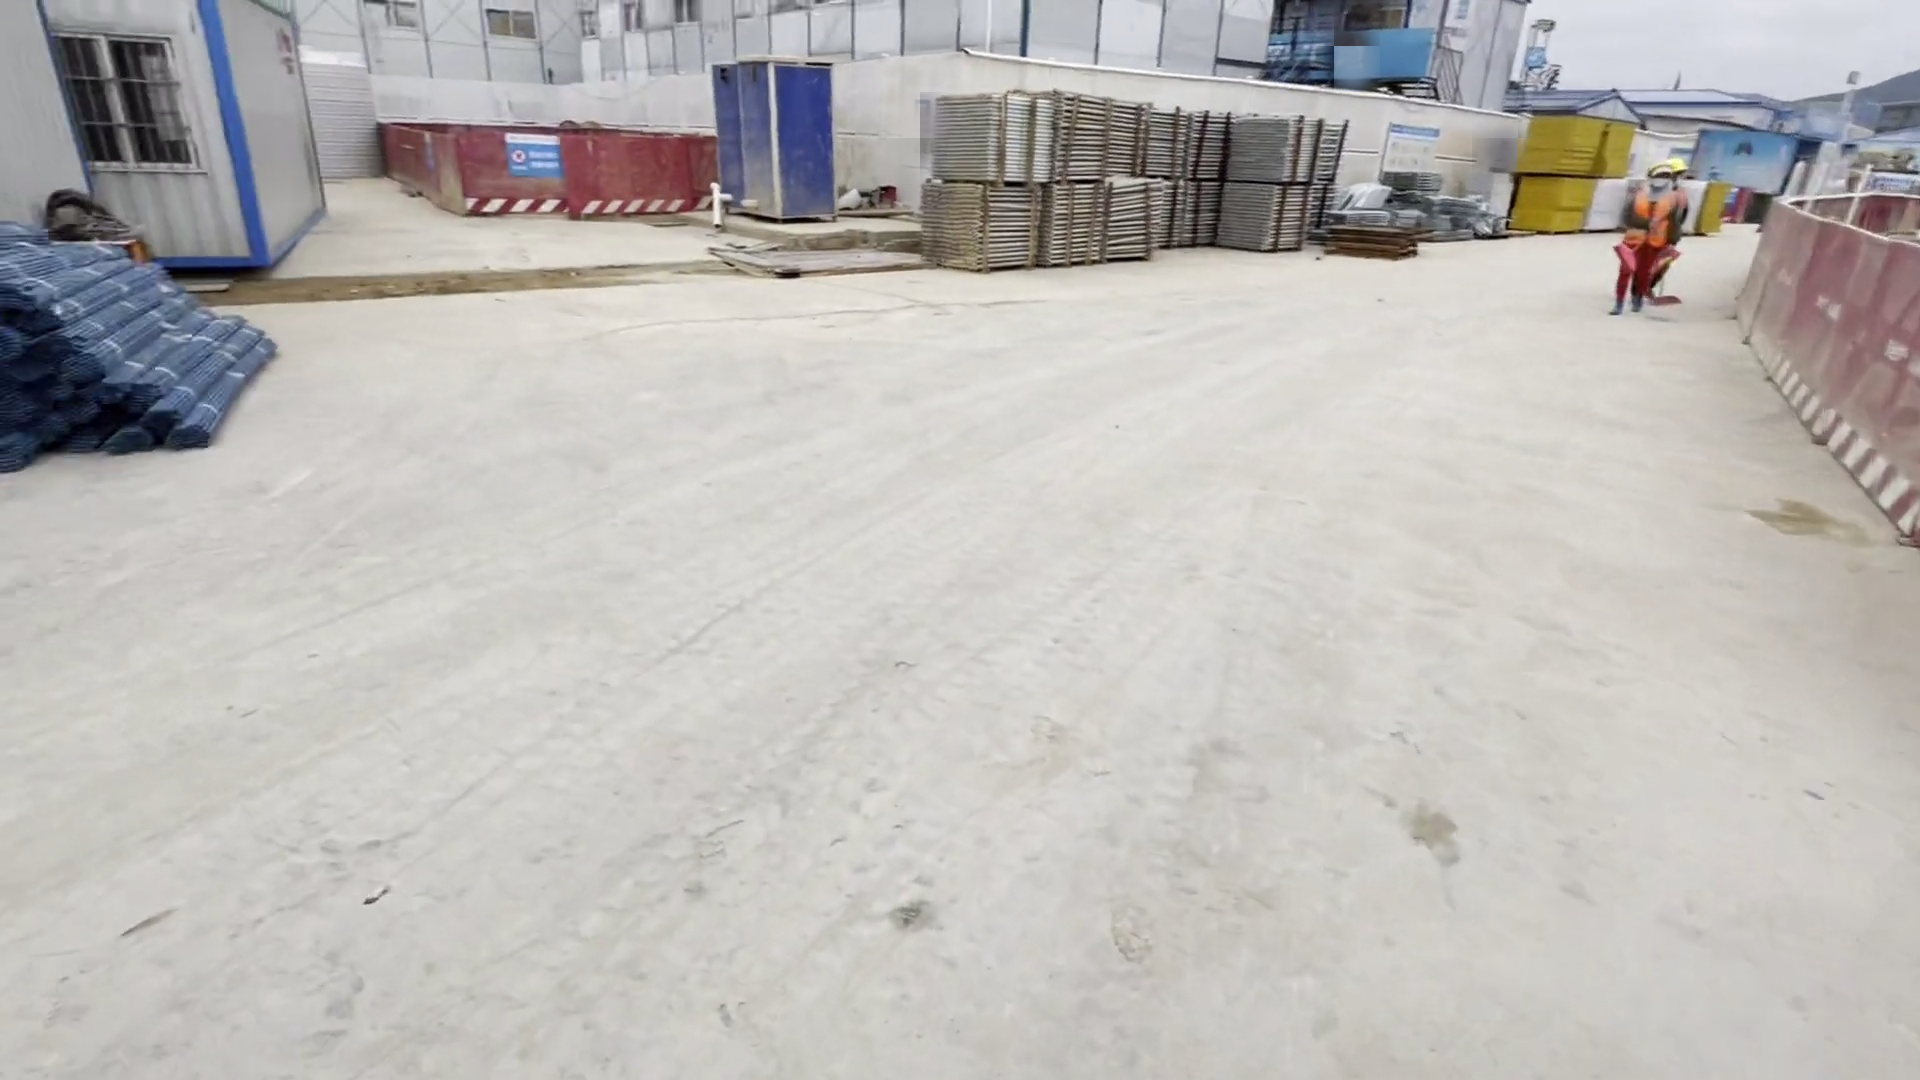fence: (384, 127, 710, 218)
helmet: (1643, 151, 1695, 185)
person: (1610, 153, 1704, 331)
scaffold: (923, 92, 1345, 277)
vest: (1623, 194, 1686, 244)
